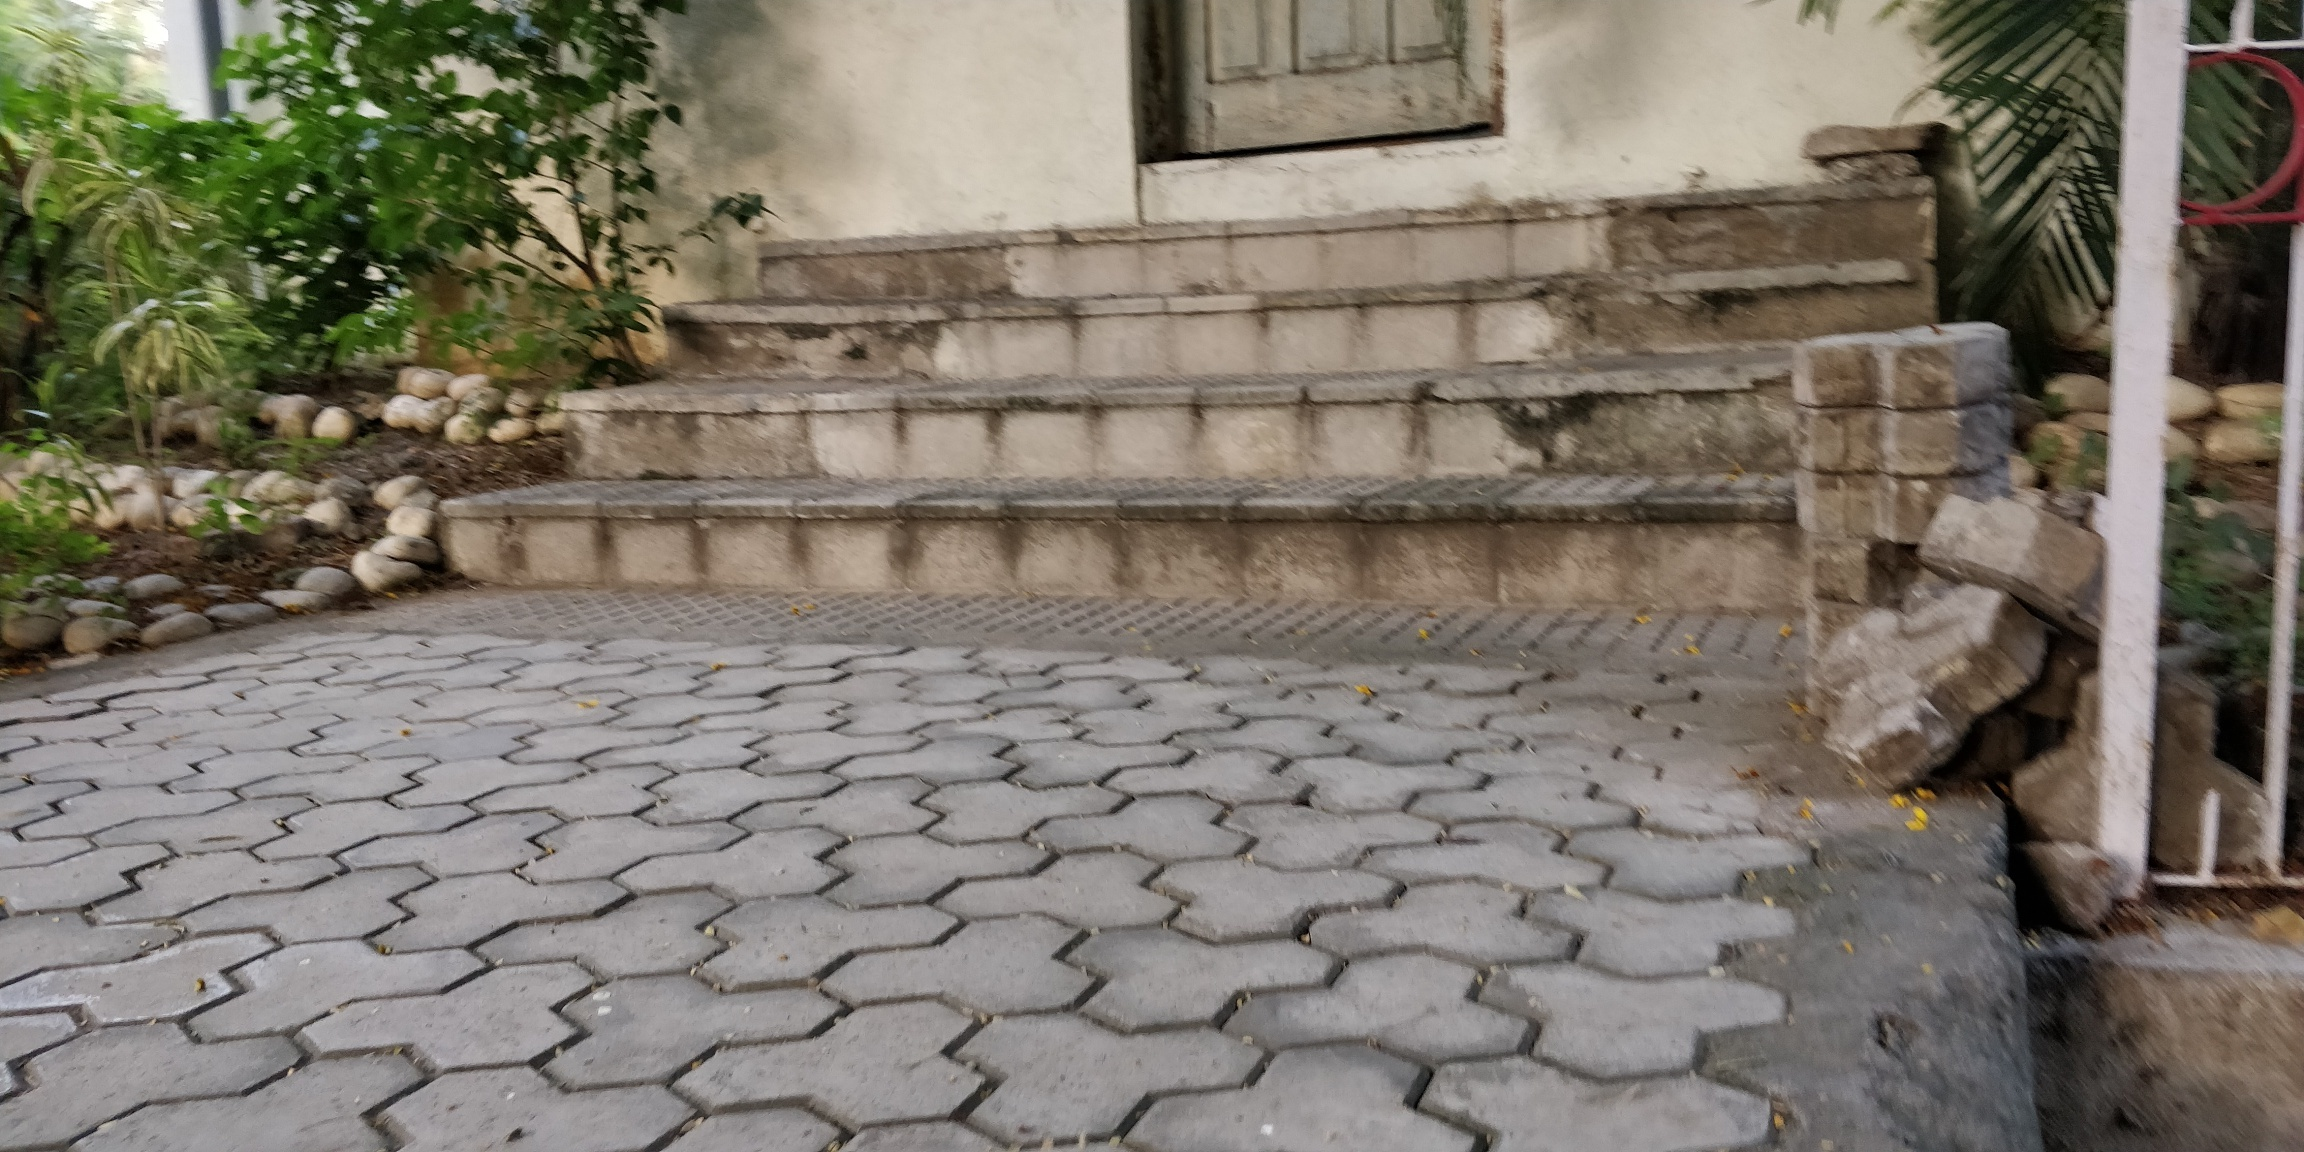stairs_up: (466, 154, 1824, 645)
